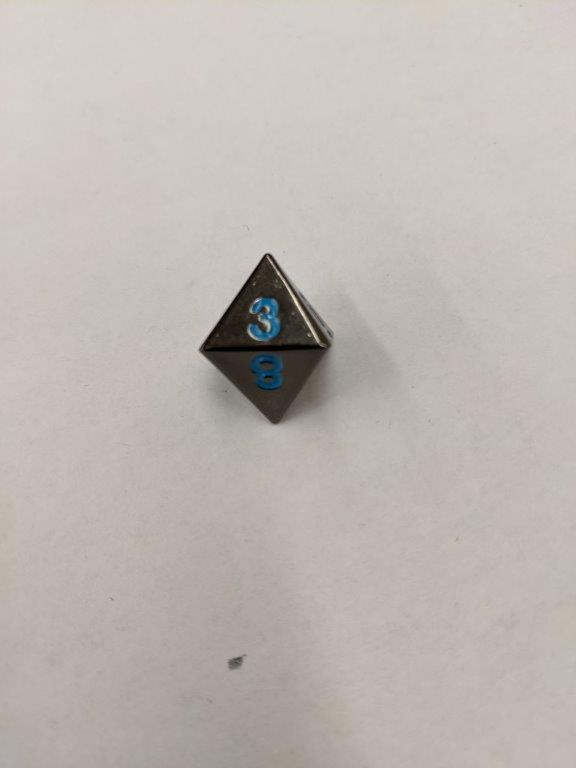d8-3: (197, 251, 336, 428)
